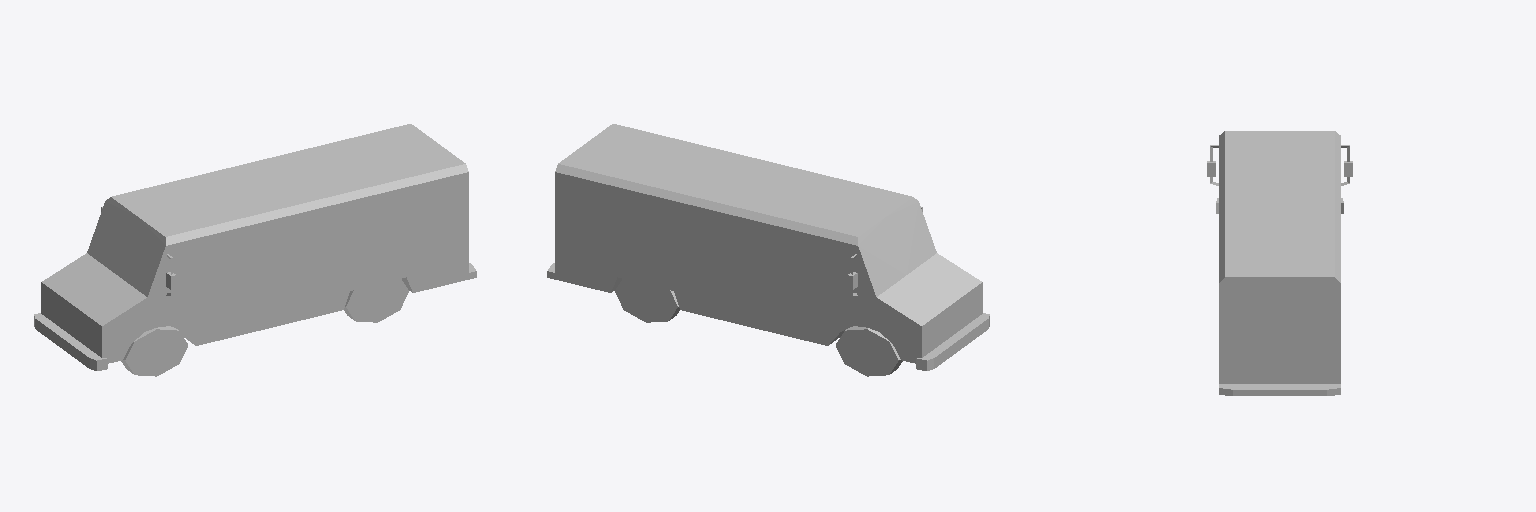
File: Car8_o2.obj
3 views of the same model, side by side, from view 1: azimuth 30°, elevation 25°; view 2: azimuth 150°, elevation 25°; view 3: azimuth 270°, elevation 25° (orthographic).
Visible parts, largest first — view 1: Car8; view 2: Car8; view 3: Car8.
Boxes of the visible parts, x1,y1,x2,y2 form: Car8: [34, 124, 476, 376]; Car8: [547, 124, 989, 376]; Car8: [1207, 131, 1352, 395].
Size of the model in its own units: 4.96 by 1.66 by 1.63.